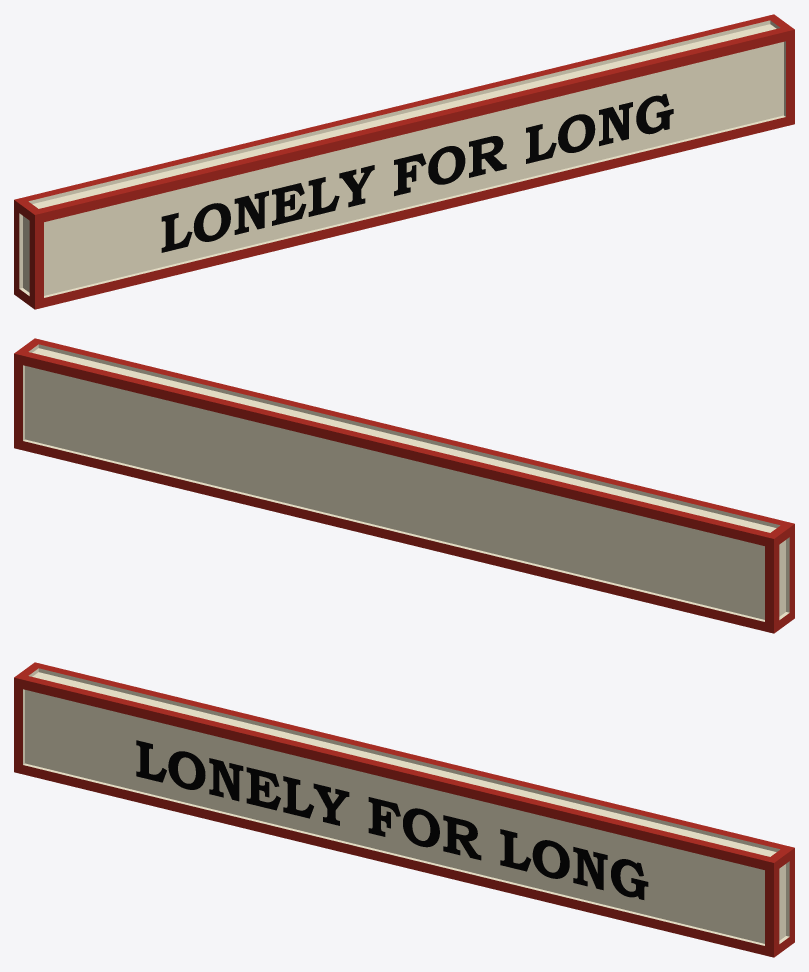
Rendered from lonelyForLong.glb.
3 renders of one model, top to bottom at view 1: azimuth 30°, elevation 25°; view 2: azimuth 150°, elevation 25°; view 3: azimuth 330°, elevation 25°, orthographic.
Parts seen in each view (by area): view 1: ButtonBase, ButtonText; view 2: ButtonBase; view 3: ButtonBase, ButtonText.
Boxes of the visible parts, x1,y1,x2,y2 form: ButtonBase: (14,14,794,309); ButtonText: (161,94,673,252); ButtonBase: (14,338,794,633); ButtonBase: (14,662,794,957); ButtonText: (136,740,648,899).
Size of the model in its own units: 10.5 by 1.25 by 0.5538.
